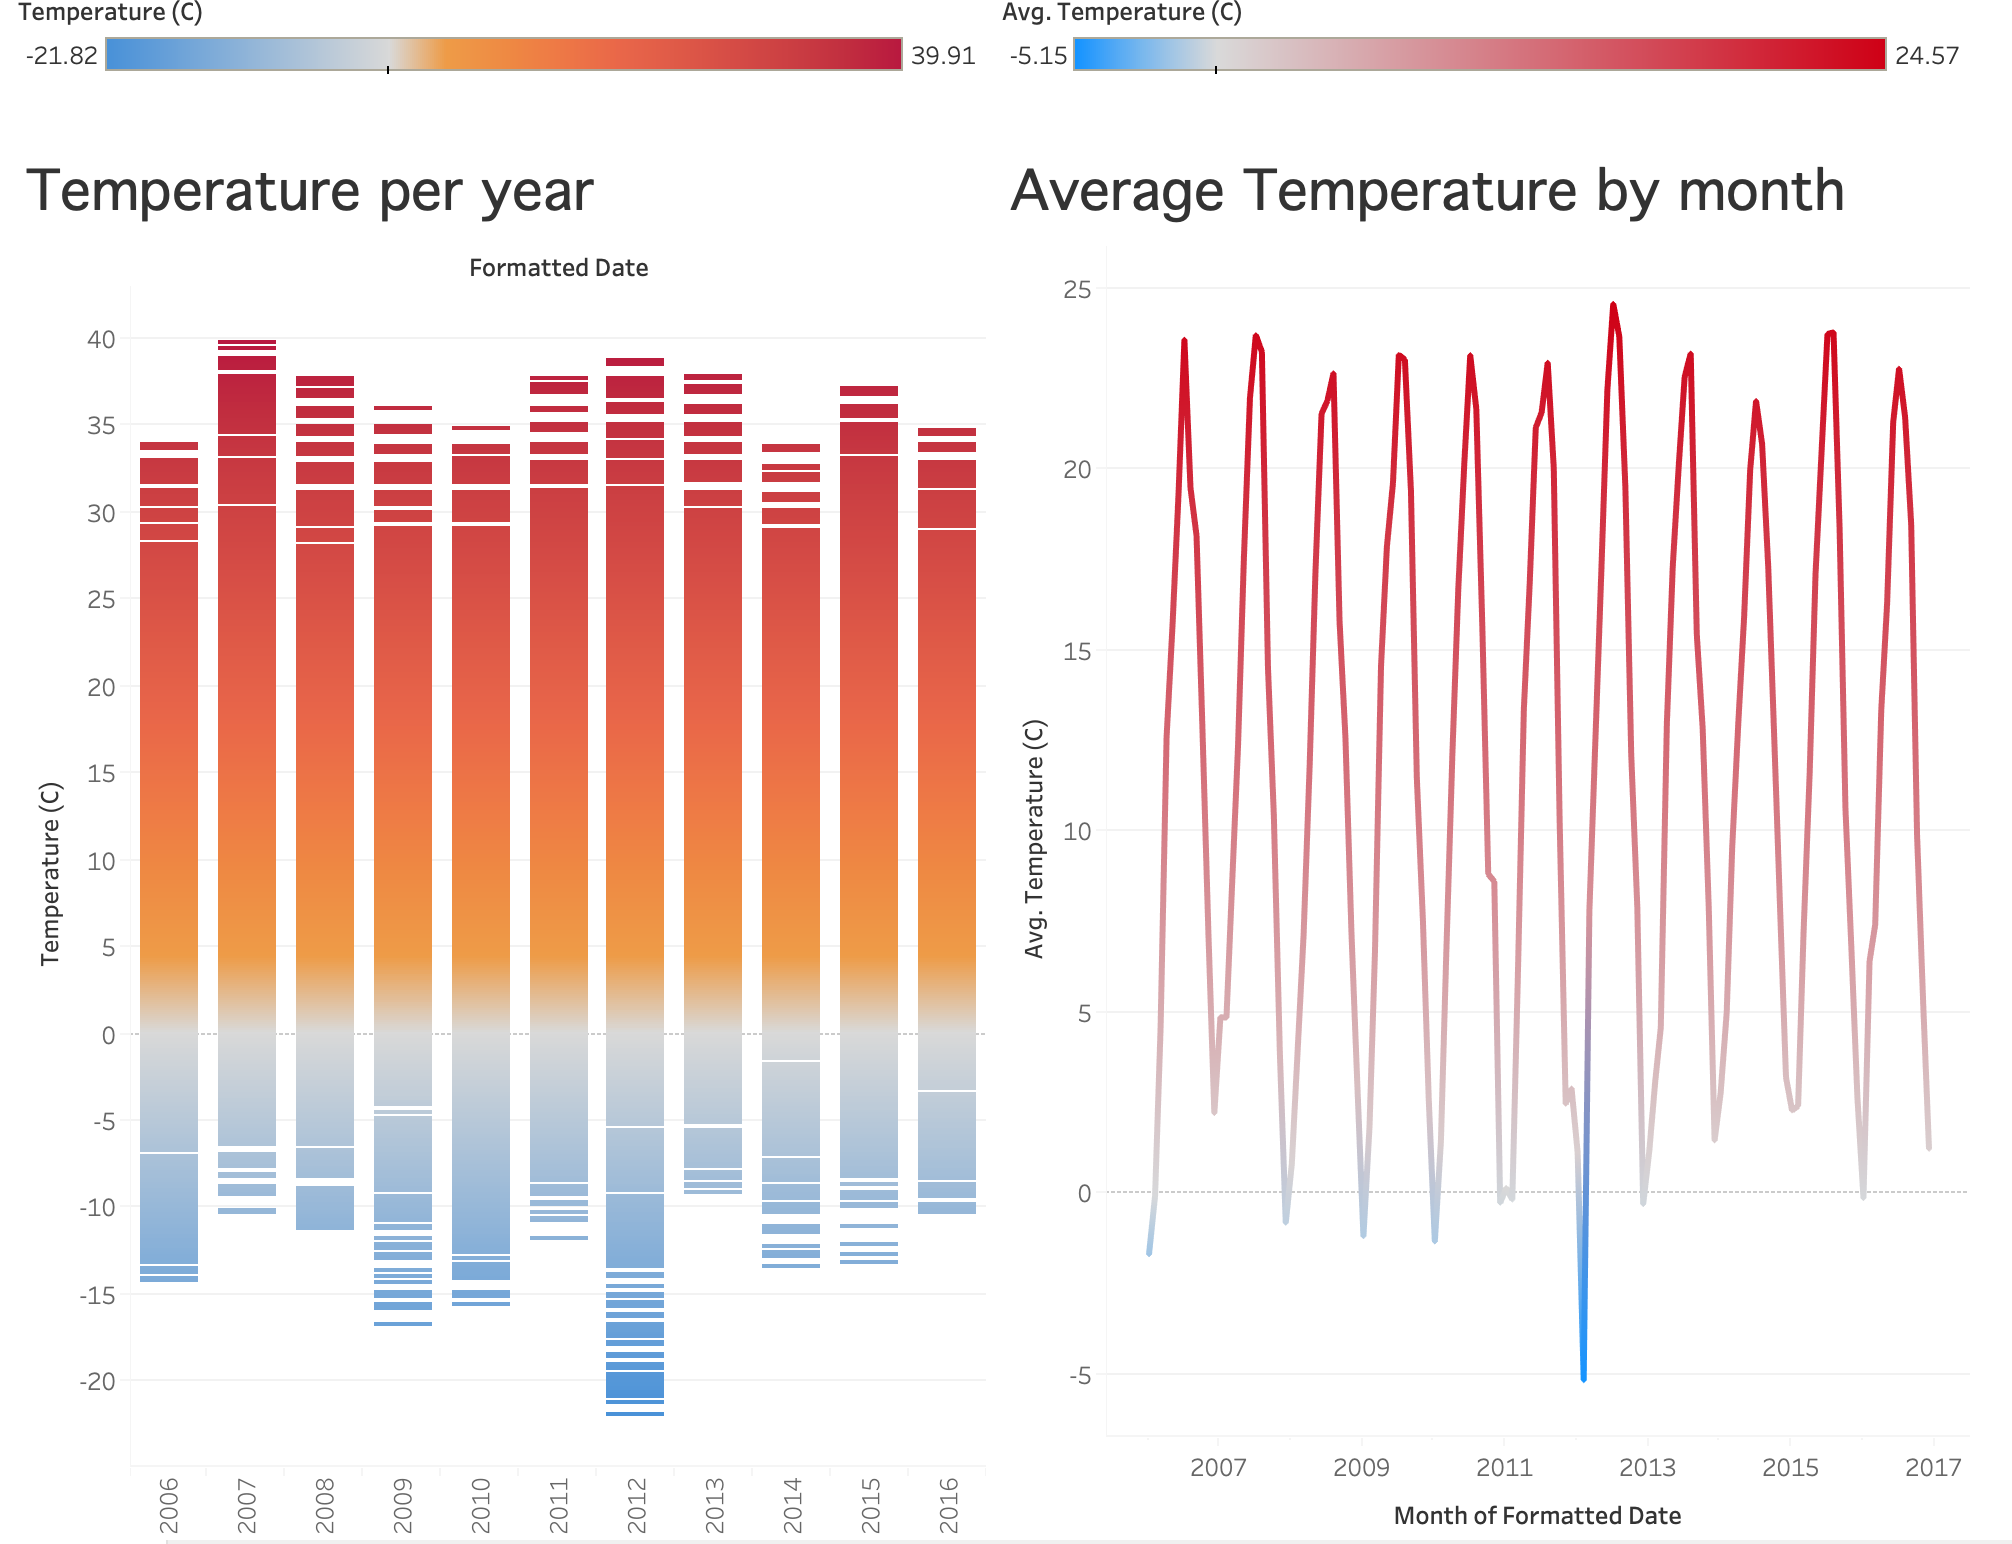

Layout of this report page (visuals, bound fields, positions):
{"tool":"tableau","page":{"name":"Dashboard 1","canvas":[1000,800],"ordinal":0},"visuals":[{"type":"worksheet","box":[0,0,1000,800]},{"type":"worksheet","param":"horz","box":[8,8,984,784]},{"type":"worksheet","box":[8,8,984,784]},{"type":"worksheet","title":"Sheet 1","mark":"Automatic","rows":["Temperature (C)"],"cols":["Formatted Date"],"param":"[federated.0r2hxhf14kz9f61gwqlw702g3vql].[attr:Temperature (C):qk]","box":[8,8,492,75]},{"type":"worksheet","title":"Sheet 2","mark":"Automatic","rows":["Temperature (C)"],"cols":["Formatted Date"],"param":"[federated.0r2hxhf14kz9f61gwqlw702g3vql].[avg:Temperature (C):qk]","box":[500,8,492,75]},{"type":"worksheet","title":"Sheet 1","mark":"Automatic","rows":["Temperature (C)"],"cols":["Formatted Date"],"box":[8,83,492,709]},{"type":"worksheet","title":"Sheet 2","mark":"Automatic","rows":["Temperature (C)"],"cols":["Formatted Date"],"box":[500,83,492,709]}]}

Visuals, with their boxes on the page's 1000x800 design canvas (x1, y1, x2, y2). These are canvas units, not pixel positions in the 2012x1544 screenshot, which may show the page scaled, cropped or inside an application window:
worksheet: l=0, t=0, r=1000, b=800
worksheet: l=8, t=8, r=992, b=792
worksheet: l=8, t=8, r=992, b=792
"Sheet 1" worksheet: l=8, t=8, r=500, b=83
"Sheet 2" worksheet: l=500, t=8, r=992, b=83
"Sheet 1" worksheet: l=8, t=83, r=500, b=792
"Sheet 2" worksheet: l=500, t=83, r=992, b=792
